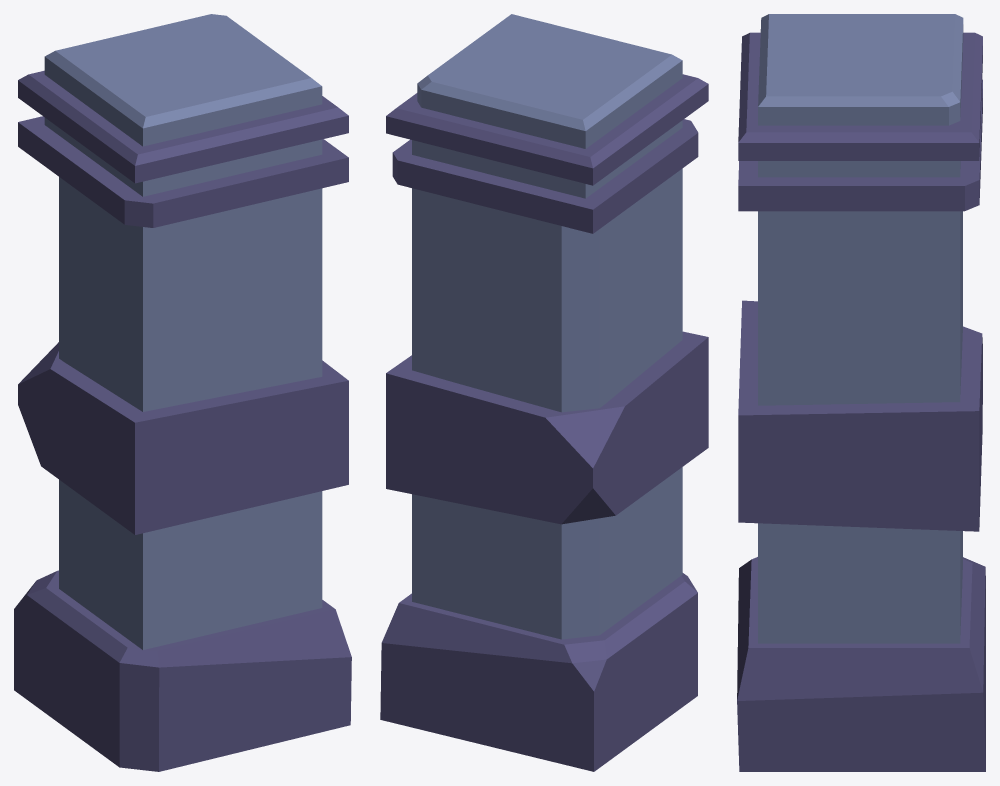
The model's file is Fence_Column_02.fbx.
The picture shows the model from 3 angles, left to right: view 1: azimuth 30°, elevation 25°; view 2: azimuth 150°, elevation 25°; view 3: azimuth 270°, elevation 25°; orthographic projection. The views are drawn at different scales.
Visible parts, largest first — view 1: Fence_Column_02; view 2: Fence_Column_02; view 3: Fence_Column_02.
Part boxes in pixels (box(x1,y1,x2,y2)): Fence_Column_02: box(14, 14, 351, 771); Fence_Column_02: box(380, 14, 708, 771); Fence_Column_02: box(737, 14, 985, 771).
Bounding box in the file's own units: 78.67 × 223 × 76.06.
